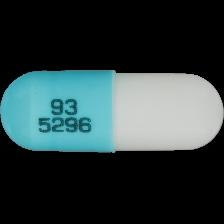0093-5296: (0, 0, 224, 224)
